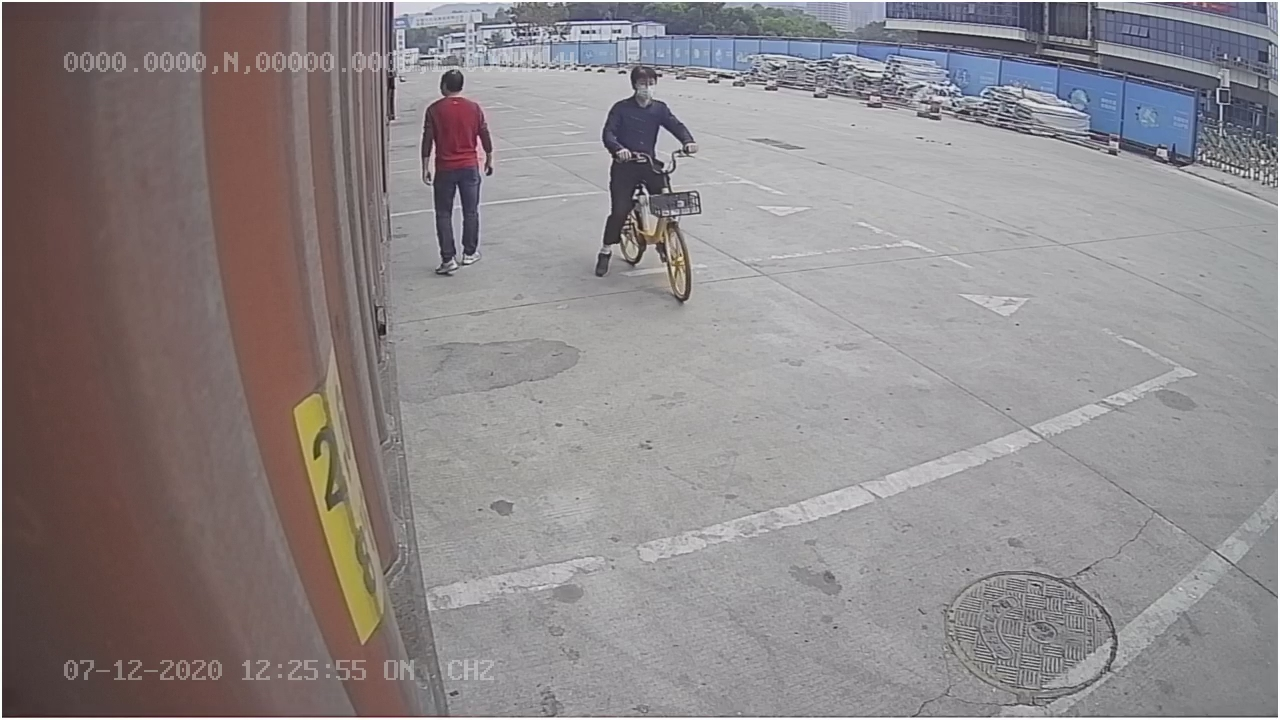person: (416, 67, 498, 280)
